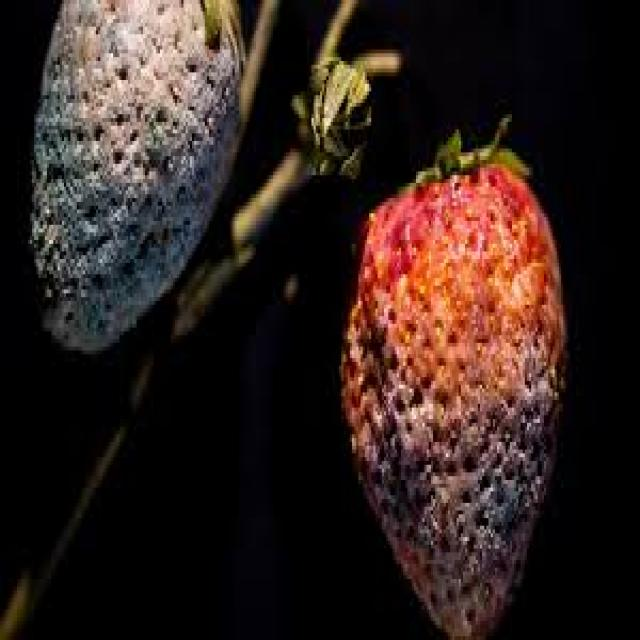food_waste: (339, 114, 565, 636), (173, 0, 399, 335), (30, 0, 243, 347)
